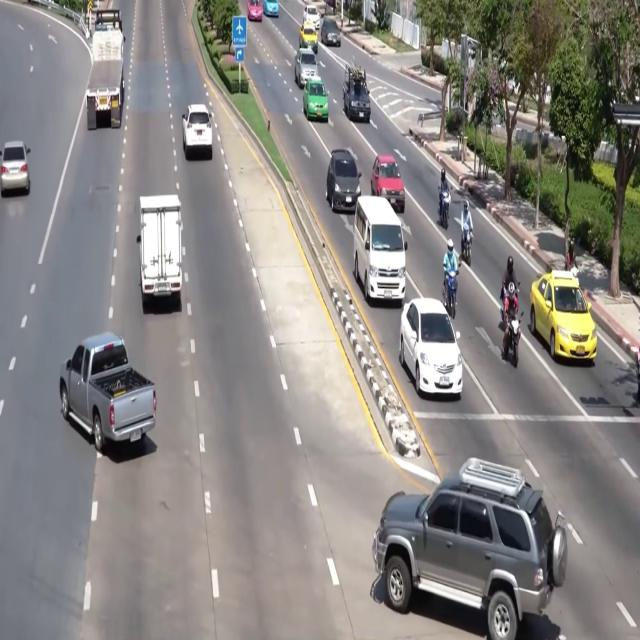car: (372, 458, 567, 639), (399, 298, 462, 398), (530, 271, 597, 362), (326, 149, 361, 211), (371, 155, 405, 213), (0, 141, 30, 196), (182, 104, 212, 159), (343, 63, 370, 122), (303, 76, 328, 120), (294, 49, 317, 87), (320, 18, 341, 47), (299, 23, 318, 53), (303, 5, 320, 30), (247, 0, 262, 21), (262, 0, 278, 17)
scooty: (503, 311, 523, 367), (445, 270, 458, 319), (439, 191, 450, 230), (462, 230, 472, 266), (500, 288, 506, 328), (636, 345, 639, 405)
truck: (59, 333, 156, 452), (137, 195, 182, 311), (86, 9, 125, 129)
